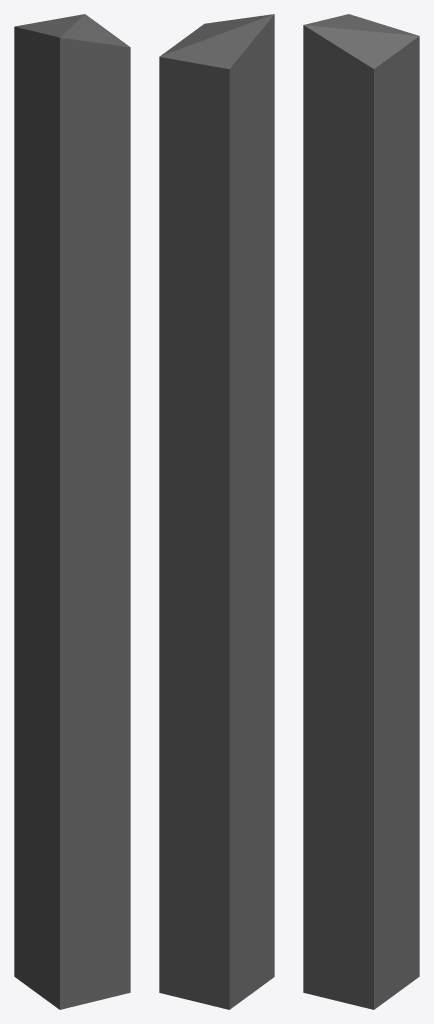
File: pillar_1.fbx
3 views of the same model, side by side, from view 1: azimuth 30°, elevation 25°; view 2: azimuth 150°, elevation 25°; view 3: azimuth 330°, elevation 25° (orthographic).
Visible parts, largest first — view 1: Object.026; view 2: Object.026; view 3: Object.026.
Boxes of the visible parts, <box> form: Object.026: <box>14,14,130,1009</box>; Object.026: <box>159,14,274,1009</box>; Object.026: <box>303,14,419,1009</box>.
Bounding box in the file's own units: 141 × 1853 × 158.
